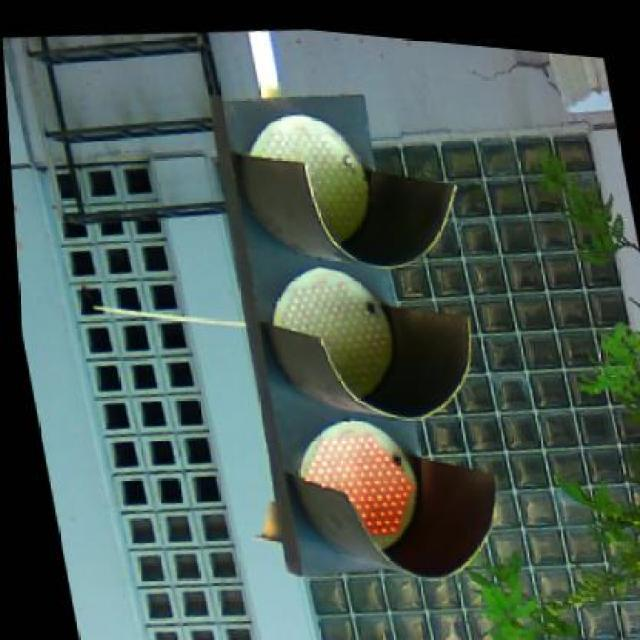car: (197, 62, 516, 590)
